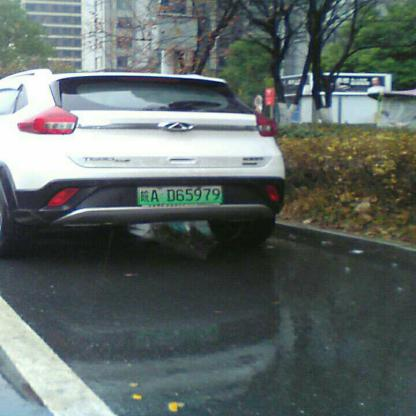lp: (138, 184, 221, 204)
